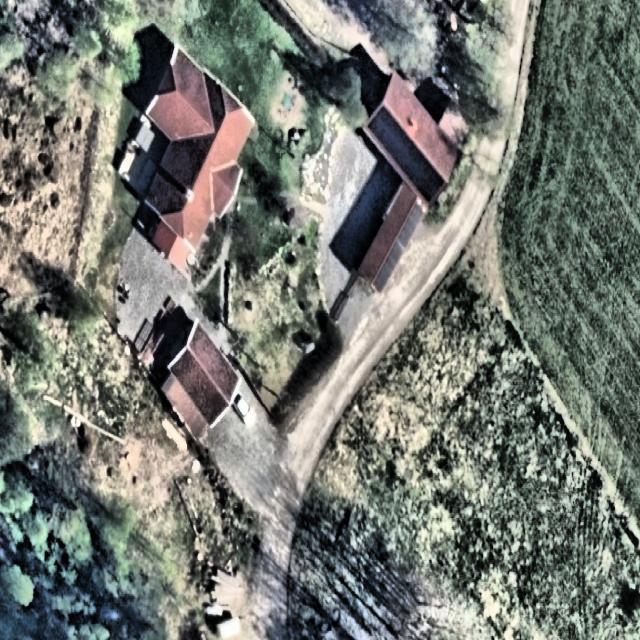roof_pv: (398, 137, 445, 199), (365, 106, 412, 164), (375, 238, 403, 292), (399, 198, 427, 249)
